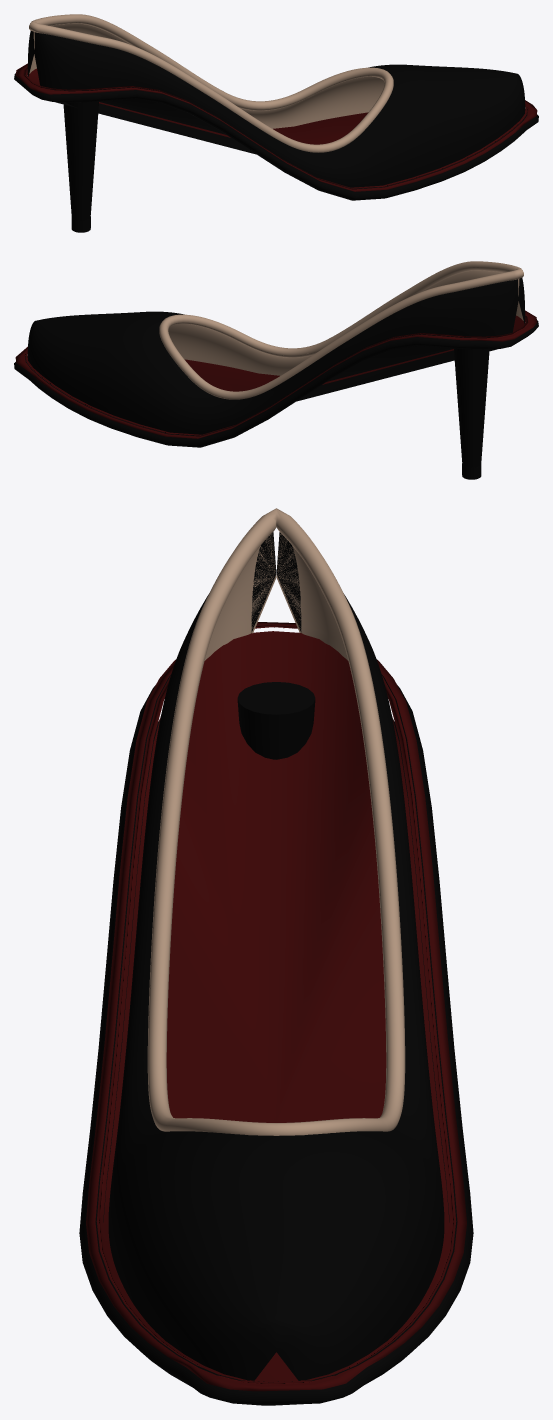
Rendered from stiletto-pump-noir.glb.
The picture shows the model from 3 angles, top to bottom: view 1: azimuth 30°, elevation 25°; view 2: azimuth 150°, elevation 25°; view 3: azimuth 270°, elevation 25°; orthographic projection. The views are drawn at different scales.
Visible parts, largest first — view 1: upper, outsole, collar, midsole, lining, heel; view 2: upper, outsole, collar, midsole, lining, heel; view 3: midsole, upper, collar, outsole, lining, heel.
Part boxes in pixels (x1,y1,x2,y2): upper: [27, 31, 525, 187]; outsole: [14, 68, 538, 200]; collar: [29, 14, 393, 152]; midsole: [15, 63, 537, 191]; lining: [29, 23, 384, 128]; heel: [63, 101, 98, 220]; upper: [27, 278, 525, 434]; outsole: [14, 316, 538, 447]; collar: [159, 261, 523, 399]; midsole: [15, 310, 537, 438]; lining: [168, 270, 523, 375]; heel: [454, 348, 489, 467]; midsole: [86, 622, 466, 1391]; upper: [108, 532, 444, 1380]; collar: [147, 508, 405, 1135]; outsole: [79, 627, 473, 1405]; lining: [204, 533, 348, 660]; heel: [237, 682, 315, 759].
Size of the model in its own units: 0.268 by 0.1112 by 0.091.
